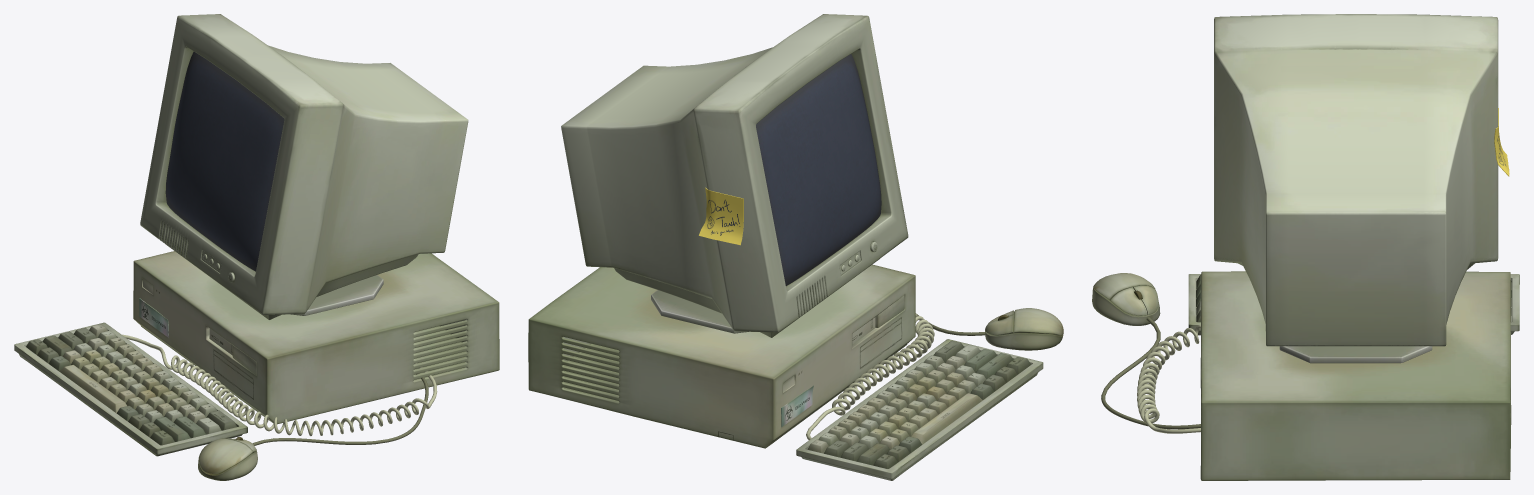
The picture shows the model from 3 angles, left to right: view 1: azimuth 30°, elevation 25°; view 2: azimuth 150°, elevation 25°; view 3: azimuth 270°, elevation 25°; orthographic projection. The views are drawn at different scales.
Visible parts, largest first — view 1: Cube.049_4, Cube.055_9, Cube.054_8, Plane.020_16, Cube.045_14, Circle.002_2, Cube.053_7, Plane.022_19, object 3, Plane.023_20, Cube.057_11; view 2: Cube.049_4, Cube.055_9, Cube.054_8, Plane.020_16, Cube.045_14, Circle.002_2, StickyNote.016_0, Cube.053_7, Plane.023_20, Plane.022_19, Cube.057_11; view 3: Cube.049_4, Cube.055_9, Cube.053_7, Circle.002_2, Plane.021_18, Cube.045_14, Plane.023_20, object 3, Plane.022_19.
Part boxes in pixels (x1,y1,x2,y2): Cube.049_4: (140,14,468,319); Cube.055_9: (133,251,499,424); Cube.054_8: (165,51,284,271); Plane.020_16: (26,324,237,445); Cube.045_14: (14,322,247,456); Circle.002_2: (122,334,437,436); Cube.053_7: (291,275,383,315); Plane.022_19: (198,438,252,473); object 3: (252,369,428,445); Plane.023_20: (198,450,257,480); Cube.057_11: (139,298,168,337); Cube.049_4: (561,14,908,337); Cube.055_9: (528,264,915,448); Cube.054_8: (756,54,881,285); Plane.020_16: (807,341,1031,468); Cube.045_14: (796,339,1043,480); Circle.002_2: (806,313,934,439); StickyNote.016_0: (699,187,743,245); Cube.053_7: (651,290,748,333); Plane.023_20: (985,330,1063,350); Plane.022_19: (1014,308,1063,335); Cube.057_11: (781,385,813,427); Cube.049_4: (1214,14,1498,346); Cube.055_9: (1200,271,1511,480); Cube.053_7: (1279,346,1432,363); Circle.002_2: (1137,325,1200,433); Plane.021_18: (1110,285,1158,315); Cube.045_14: (1188,274,1519,335); Plane.023_20: (1092,287,1160,325); object 3: (1101,317,1200,429); Plane.022_19: (1093,273,1155,300).
Size of the model in its own units: 6.89 by 5.93 by 6.35.
Materials: 9 (7 with a texture image).
